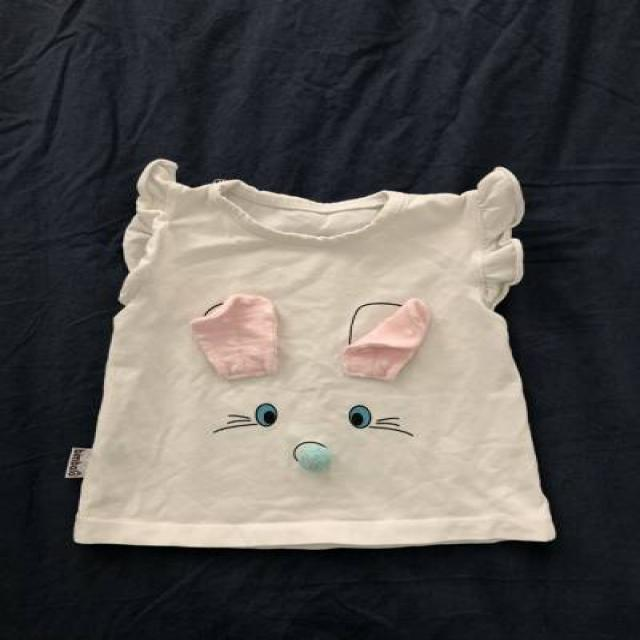Clothes -Biodegradable-: (74, 157, 562, 551)
